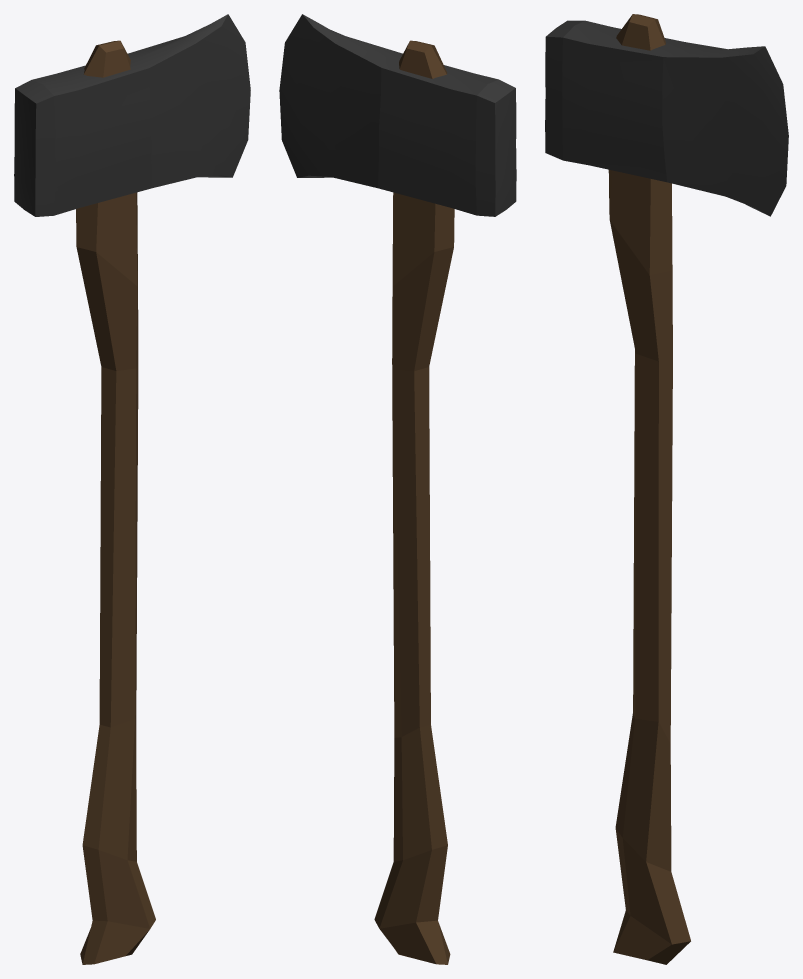
Rendered from Axe2 1.fbx.
3 views of the same model, side by side, from view 1: azimuth 30°, elevation 25°; view 2: azimuth 150°, elevation 25°; view 3: azimuth 330°, elevation 25° (orthographic). The views are drawn at different scales.
Parts seen in each view (by area): view 1: Handle, Cube; view 2: Handle, Cube; view 3: Handle, Cube.
Part boxes in pixels (x1,y1,x2,y2): Handle: [76, 40, 155, 964]; Cube: [14, 14, 250, 216]; Handle: [374, 40, 454, 964]; Cube: [279, 14, 516, 216]; Handle: [608, 14, 690, 964]; Cube: [545, 20, 788, 216].
Size of the model in its own units: 1.05 by 4.02 by 0.1999.
